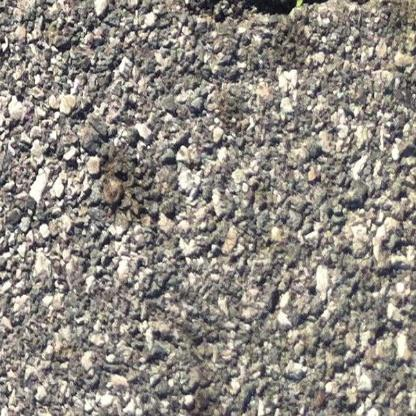Cracks: (44, 0, 416, 27)
